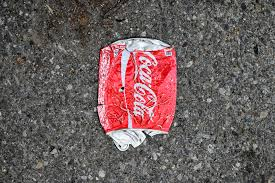Coca-Cola: (133, 52, 163, 124)
